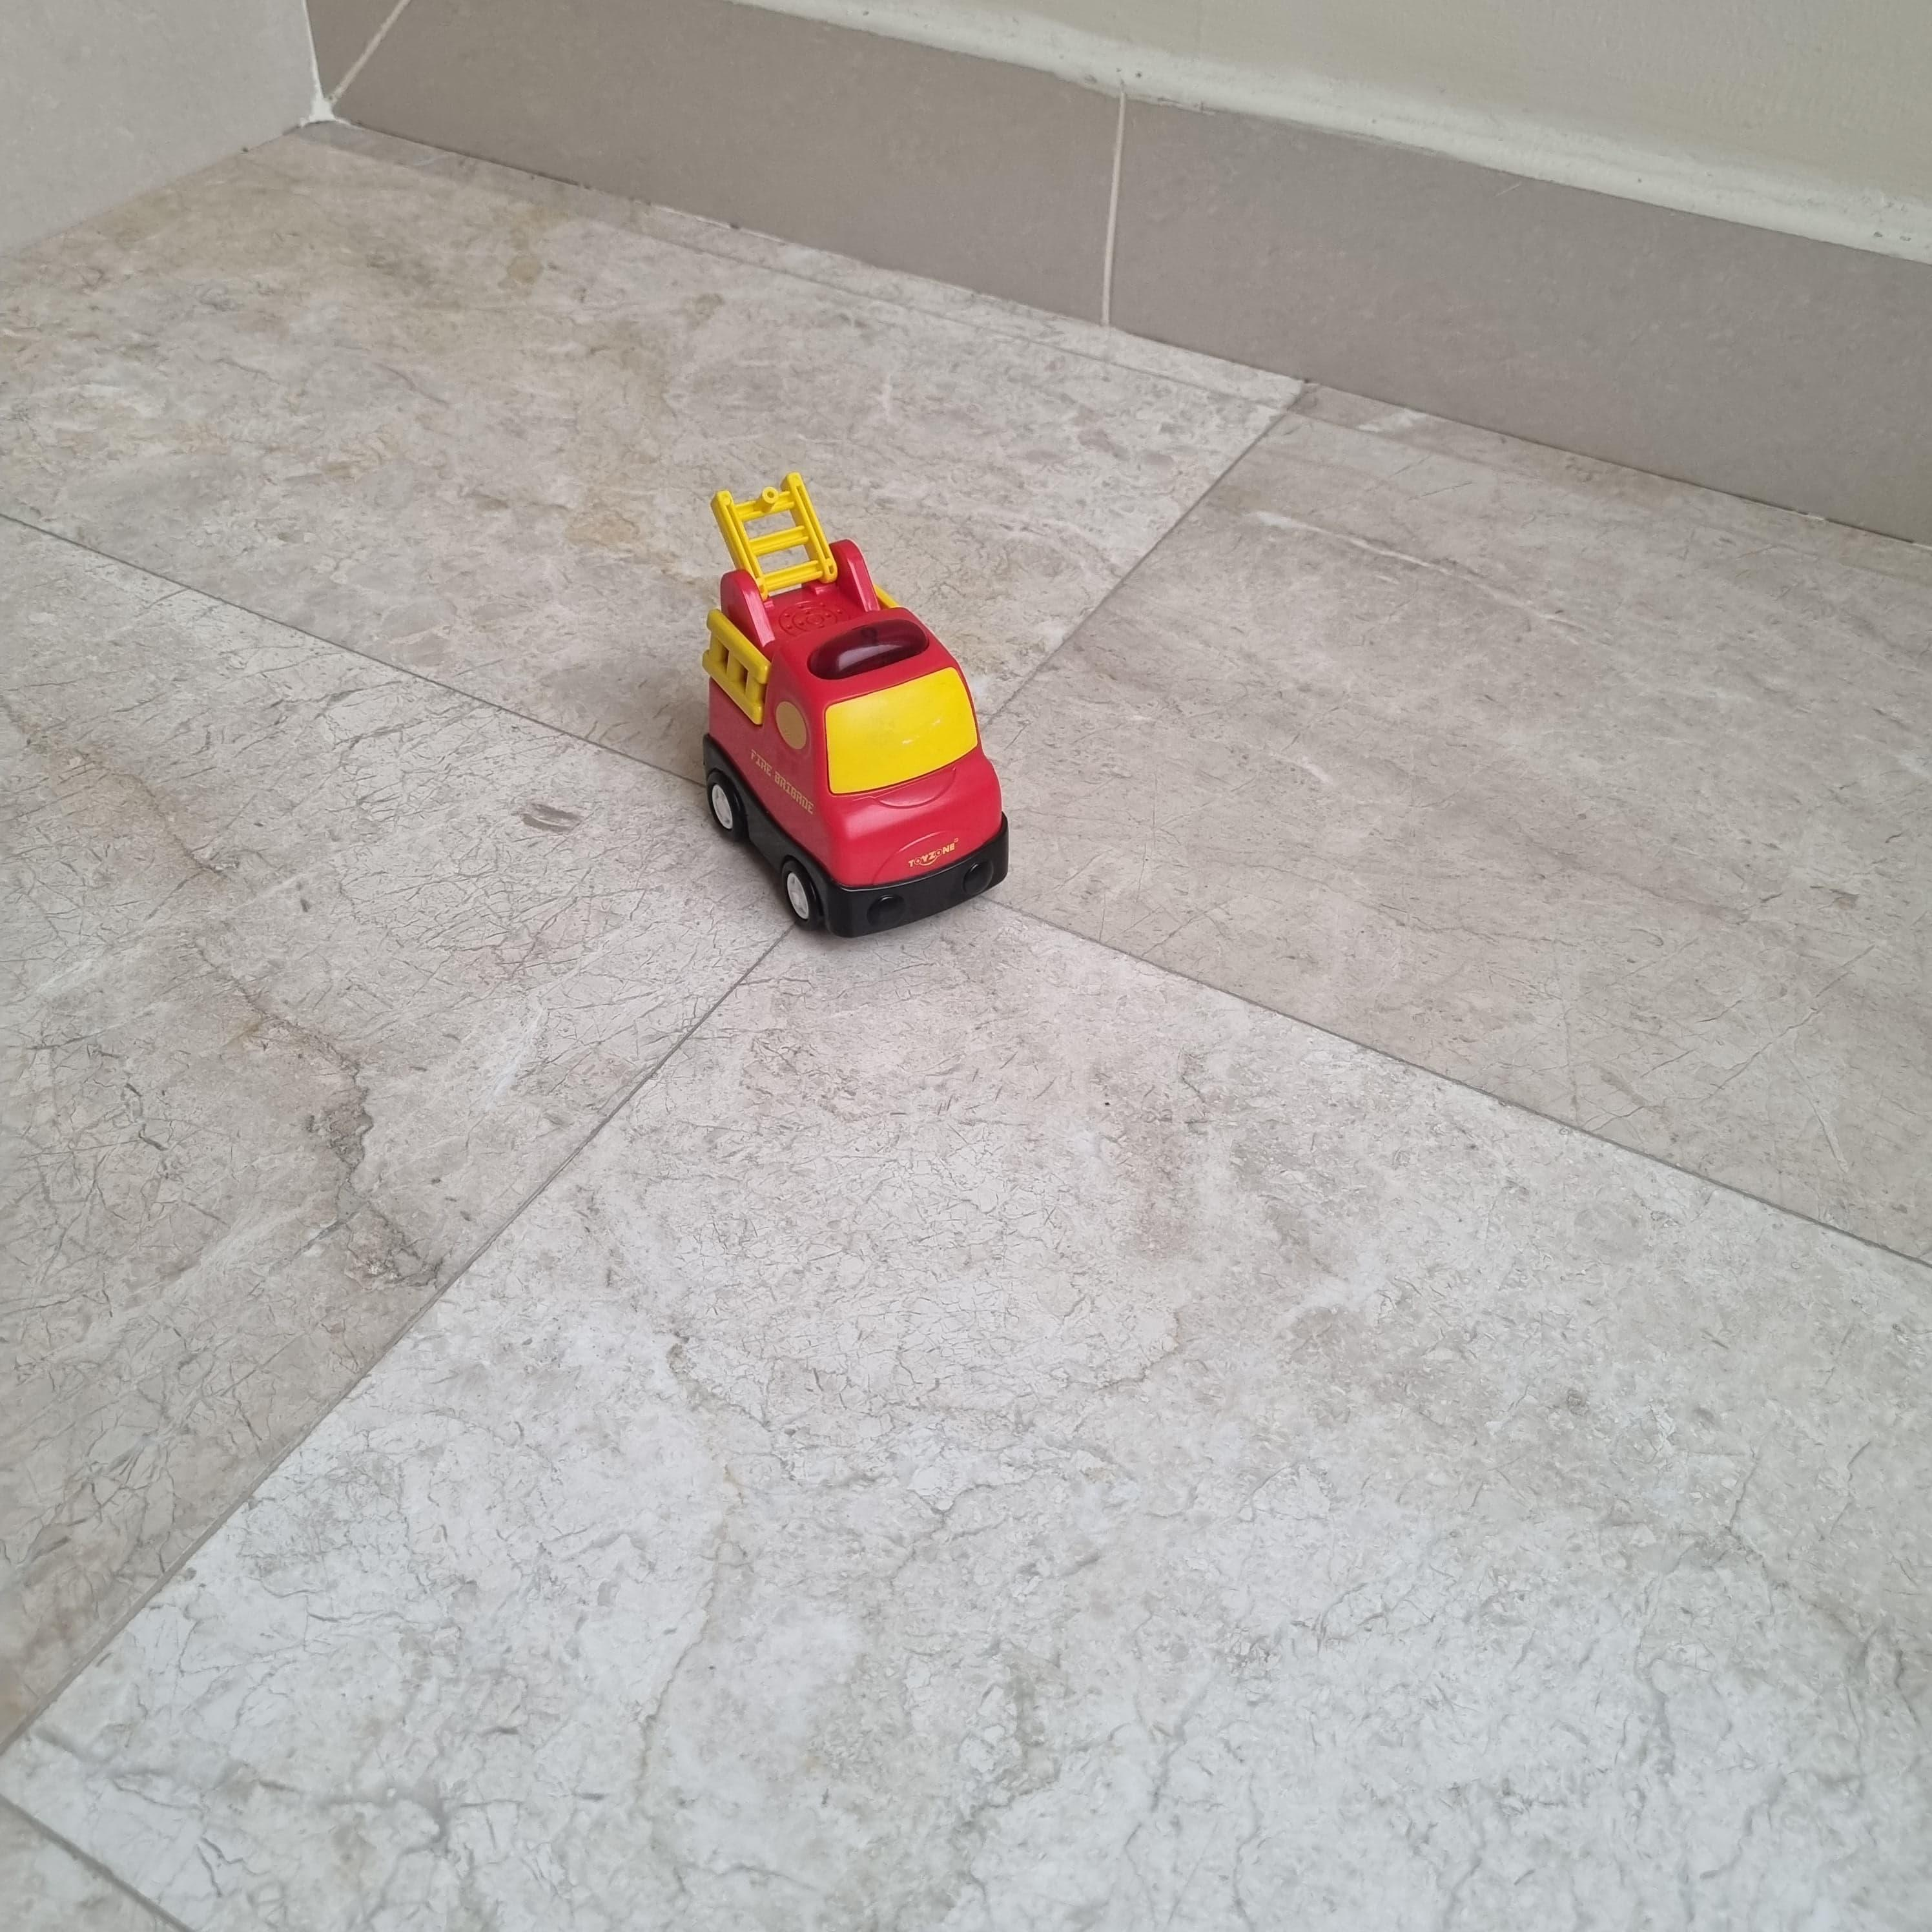firetruck_off: (697, 471, 1012, 938)
